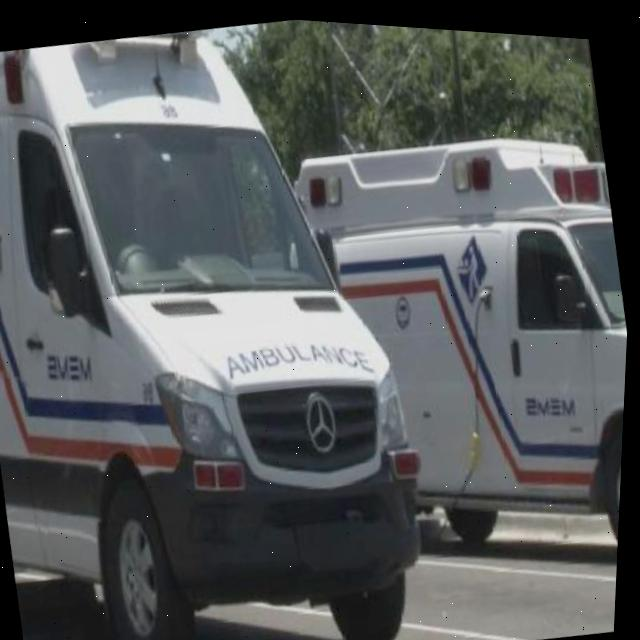emergency: (0, 0, 472, 640), (270, 97, 637, 601)
